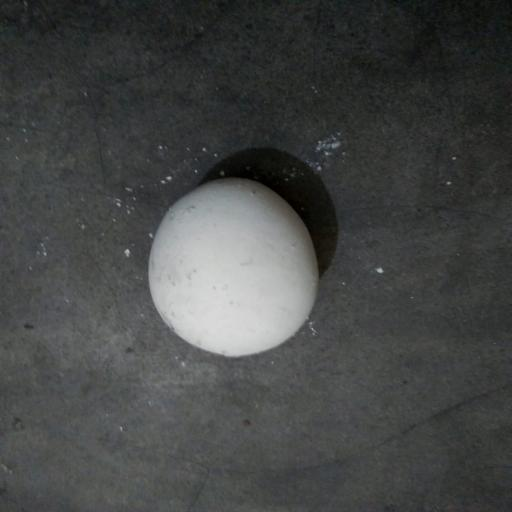telur: (144, 172, 328, 362)
